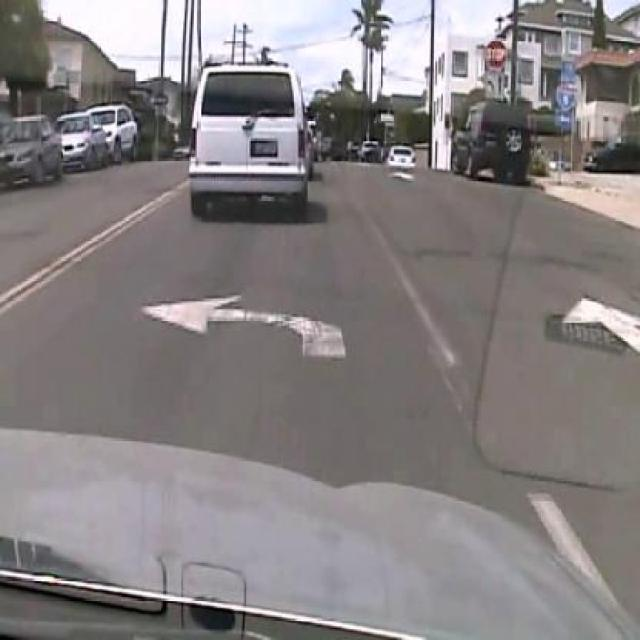stop: (484, 39, 508, 70)
